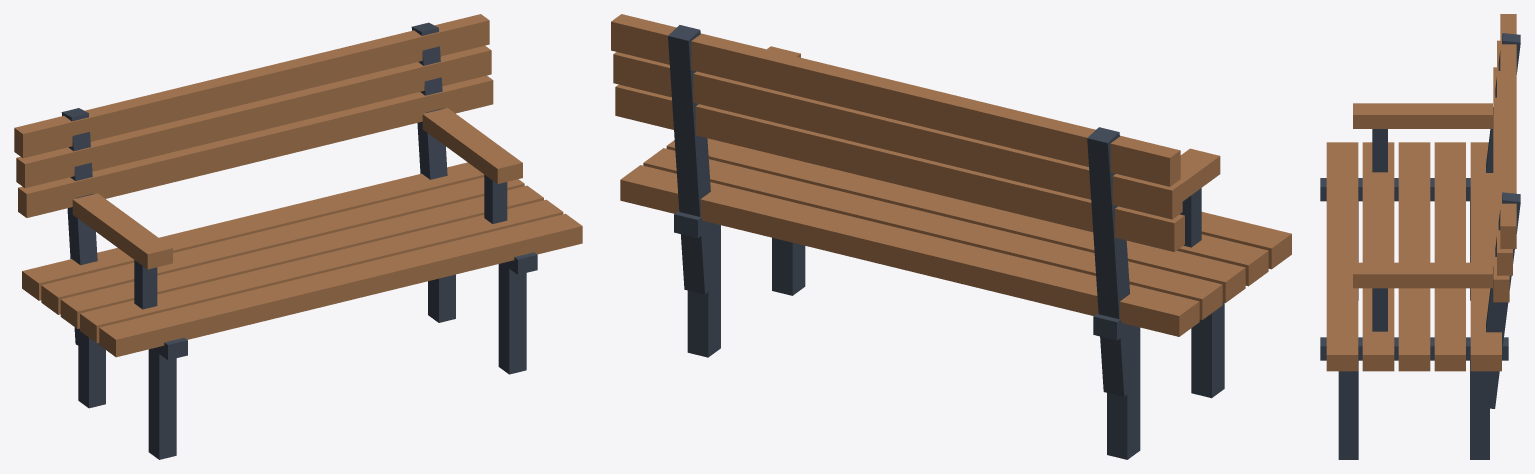
File: prop_bench.glb
3 renders of one model, left to right at view 1: azimuth 30°, elevation 25°; view 2: azimuth 150°, elevation 25°; view 3: azimuth 270°, elevation 25°, orthographic. The views are drawn at different scales.
Parts seen in each view (by area): view 1: prop_bench__Bench seat slat 0, prop_bench__Bench back slat 2, prop_bench__Bench back slat 1, prop_bench__Bench back slat 0, prop_bench__Bench seat slat 1, prop_bench__Bench seat slat 2, prop_bench__Bench seat slat 3, prop_bench__Bench seat slat 4, prop_bench__Bench armrest -0.66, prop_bench__Bench armrest 0.66, prop_bench__Bench leg -0.66 -0.23, prop_bench__Bench leg 0.66 -0.23 (+6 smaller); view 2: prop_bench__Bench seat slat 4, prop_bench__Bench back slat 2, prop_bench__Bench back slat 1, prop_bench__Bench back slat 0, prop_bench__Bench seat slat 3, prop_bench__Bench seat slat 2, prop_bench__Bench back support 0.66, prop_bench__Bench back support -0.66, prop_bench__Bench leg -0.66 0.23, prop_bench__Bench leg 0.66 0.23, prop_bench__Bench leg -0.66 -0.23, prop_bench__Bench seat slat 0 (+6 smaller); view 3: prop_bench__Bench seat slat 0, prop_bench__Bench seat slat 2, prop_bench__Bench seat slat 3, prop_bench__Bench seat slat 1, prop_bench__Bench seat slat 4, prop_bench__Bench armrest 0.66, prop_bench__Bench back slat 2, prop_bench__Bench armrest -0.66, prop_bench__Bench back support 0.66, prop_bench__Bench leg 0.66 -0.23, prop_bench__Bench leg 0.66 0.23, prop_bench__Bench back slat 0 (+6 smaller).
Boxes of the visible parts, x1=… form: prop_bench__Bench seat slat 0: x1=99, y1=213, x2=582, y2=357; prop_bench__Bench back slat 2: x1=14, y1=14, x2=489, y2=158; prop_bench__Bench back slat 1: x1=16, y1=45, x2=491, y2=187; prop_bench__Bench back slat 0: x1=18, y1=75, x2=493, y2=217; prop_bench__Bench seat slat 1: x1=80, y1=199, x2=563, y2=342; prop_bench__Bench seat slat 2: x1=60, y1=185, x2=543, y2=328; prop_bench__Bench seat slat 3: x1=41, y1=177, x2=524, y2=314; prop_bench__Bench seat slat 4: x1=22, y1=162, x2=484, y2=300; prop_bench__Bench armrest -0.66: x1=72, y1=193, x2=172, y2=269; prop_bench__Bench armrest 0.66: x1=422, y1=108, x2=522, y2=183; prop_bench__Bench leg -0.66 -0.23: x1=148, y1=348, x2=176, y2=459; prop_bench__Bench leg 0.66 -0.23: x1=498, y1=263, x2=526, y2=374; prop_bench__Bench seat slat 4: x1=620, y1=165, x2=1199, y2=336; prop_bench__Bench back slat 2: x1=611, y1=14, x2=1180, y2=186; prop_bench__Bench back slat 1: x1=613, y1=52, x2=1182, y2=219; prop_bench__Bench back slat 0: x1=615, y1=84, x2=1184, y2=251; prop_bench__Bench seat slat 3: x1=643, y1=148, x2=1222, y2=319; prop_bench__Bench seat slat 2: x1=666, y1=138, x2=1245, y2=302; prop_bench__Bench back support 0.66: x1=668, y1=25, x2=716, y2=294; prop_bench__Bench back support -0.66: x1=1087, y1=127, x2=1129, y2=396; prop_bench__Bench leg -0.66 0.23: x1=1107, y1=326, x2=1140, y2=459; prop_bench__Bench leg 0.66 0.23: x1=687, y1=224, x2=720, y2=357; prop_bench__Bench leg -0.66 -0.23: x1=1191, y1=302, x2=1224, y2=398; prop_bench__Bench seat slat 0: x1=1201, y1=212, x2=1291, y2=269; prop_bench__Bench seat slat 0: x1=1326, y1=142, x2=1358, y2=371; prop_bench__Bench seat slat 2: x1=1398, y1=142, x2=1430, y2=371; prop_bench__Bench seat slat 3: x1=1434, y1=142, x2=1465, y2=371; prop_bench__Bench seat slat 1: x1=1362, y1=142, x2=1394, y2=371; prop_bench__Bench seat slat 4: x1=1470, y1=142, x2=1501, y2=371; prop_bench__Bench armrest 0.66: x1=1353, y1=262, x2=1492, y2=288; prop_bench__Bench back slat 2: x1=1500, y1=14, x2=1516, y2=248; prop_bench__Bench armrest -0.66: x1=1353, y1=103, x2=1492, y2=128; prop_bench__Bench back support 0.66: x1=1476, y1=192, x2=1520, y2=408; prop_bench__Bench leg 0.66 -0.23: x1=1338, y1=361, x2=1358, y2=459; prop_bench__Bench leg 0.66 0.23: x1=1470, y1=360, x2=1489, y2=459; prop_bench__Bench back slat 0: x1=1493, y1=67, x2=1509, y2=302.
Bounding box in the file's own units: 1.76 × 1 × 0.7023.
